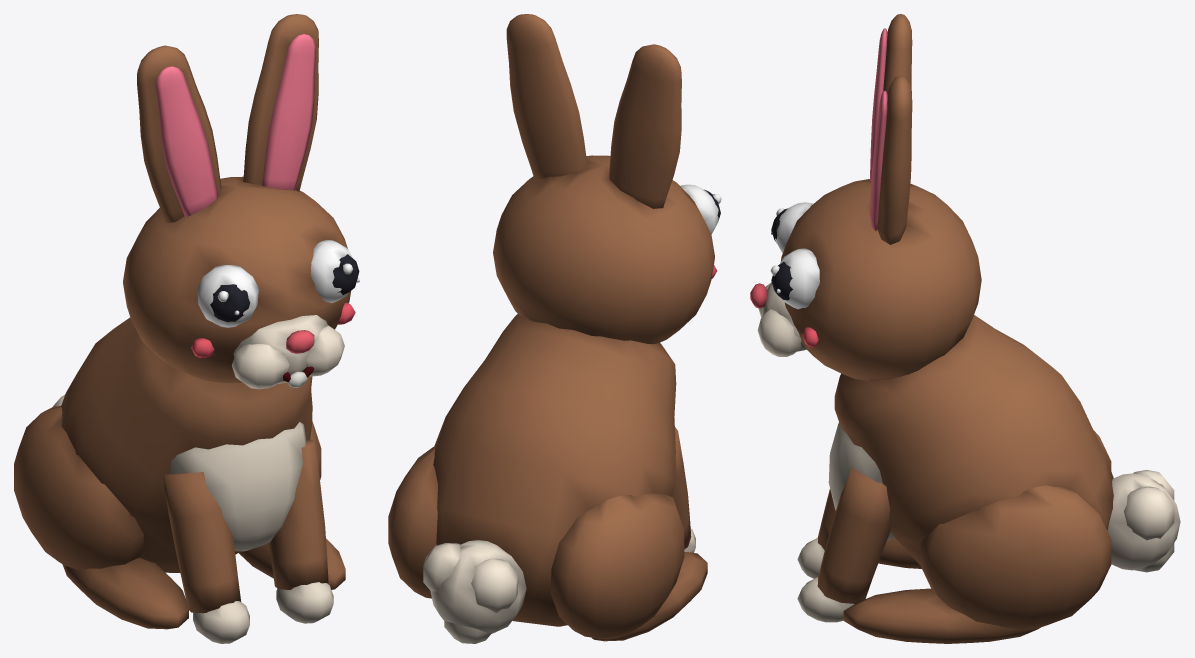
Rendered from Rabbit.fbx.
The picture shows the model from 3 angles, left to right: view 1: azimuth 30°, elevation 25°; view 2: azimuth 150°, elevation 25°; view 3: azimuth 270°, elevation 25°; orthographic projection. The views are drawn at different scales.
Parts seen in each view (by area): view 1: Rabbit, Head; view 2: Rabbit, Head, Tail; view 3: Rabbit, Head, Tail.
Part boxes in pixels (x1,y1,x2,y2): Rabbit: (14,317,345,643); Head: (123,14,359,389); Rabbit: (388,314,707,641); Head: (493,14,721,344); Tail: (423,540,526,643); Rabbit: (797,315,1113,643); Head: (750,14,981,381); Tail: (1107,470,1180,572).
Bounding box in the file's own units: 0.3052 × 0.6305 × 0.4435.
